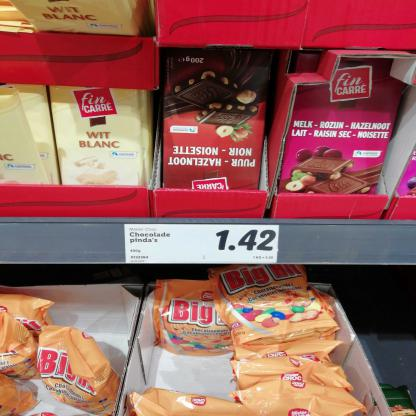prtg: (125, 225, 280, 265)
